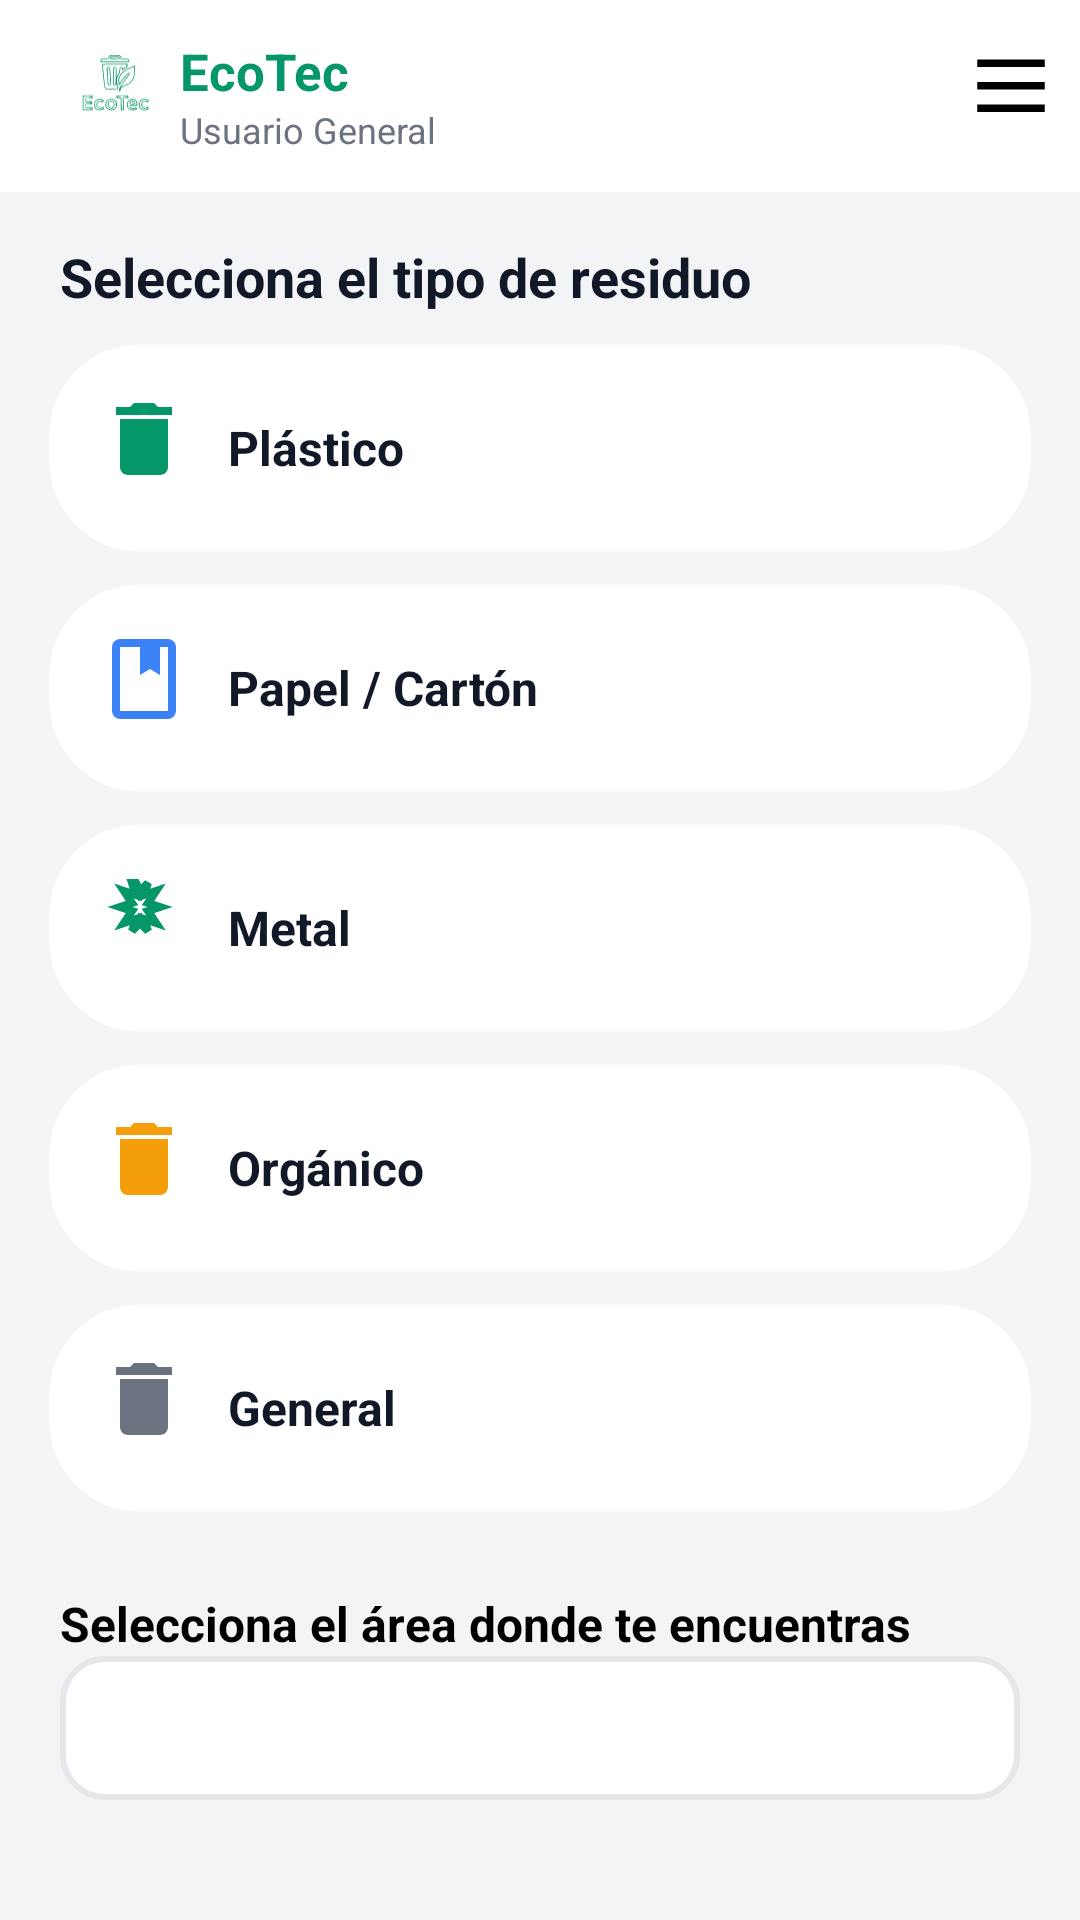

Where to tap for icons on this 1080 x 1920 app screen, as [x,y]:
book: [144,679]
Menu Icon: [1011,85]
trash: [144,439], [144,1159], [144,1399]
